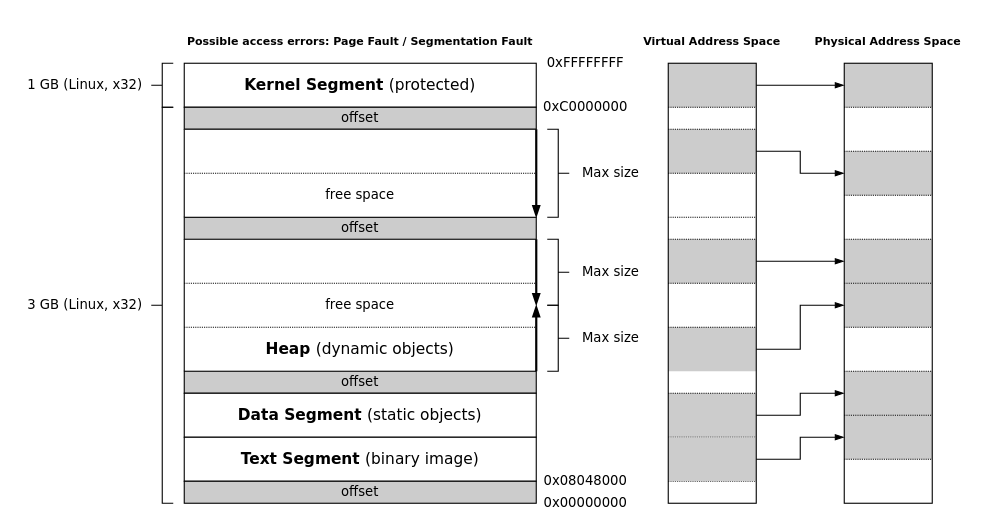
Image size: 994x532. Some labels were removed from this diagram. The box of each missing label's shape, as (x1, y1, x2, y2) in pixels:
Memory Mapping Segment (DLL, etc.): (184, 239, 536, 283)
Stack (automatic objects): (184, 129, 536, 173)
